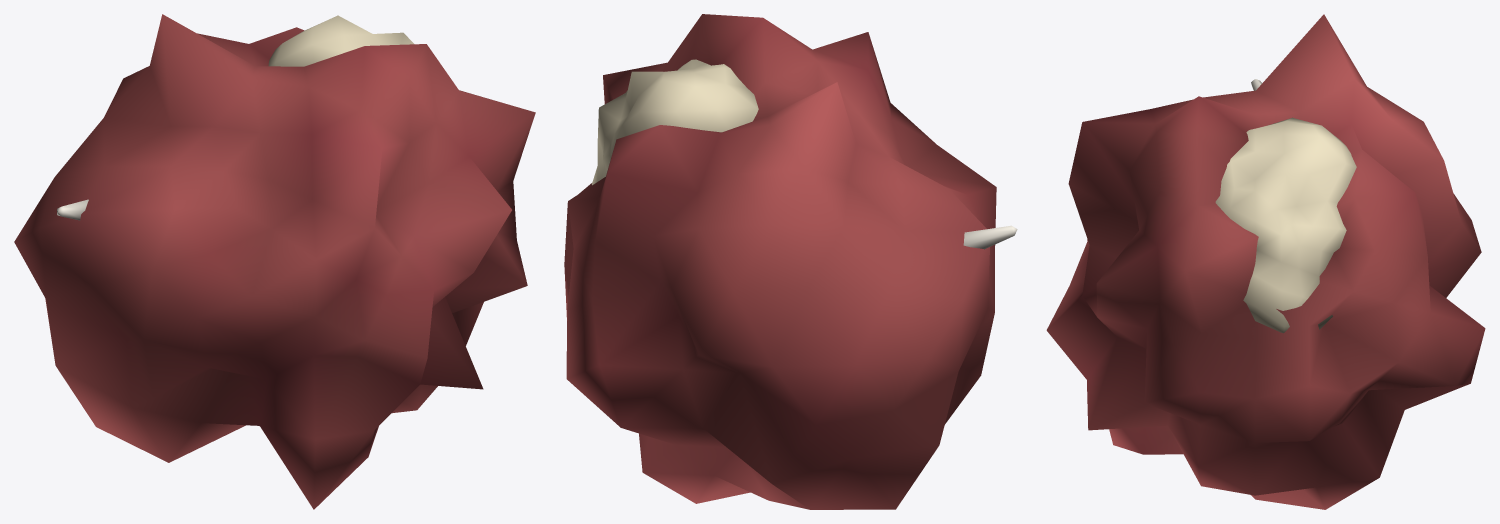
File: Gib_Chunk.glb
3 views of the same model, side by side, from view 1: azimuth 30°, elevation 25°; view 2: azimuth 150°, elevation 25°; view 3: azimuth 270°, elevation 25° (orthographic). The views are drawn at different scales.
Parts seen in each view (by area): view 1: gib; view 2: gib; view 3: gib.
Part boxes in pixels (<box>): gib: <box>14,14,535,509</box>; gib: <box>564,14,1017,509</box>; gib: <box>1046,14,1485,509</box>.
Bounding box in the file's own units: 0.1881 × 0.1836 × 0.1677.
